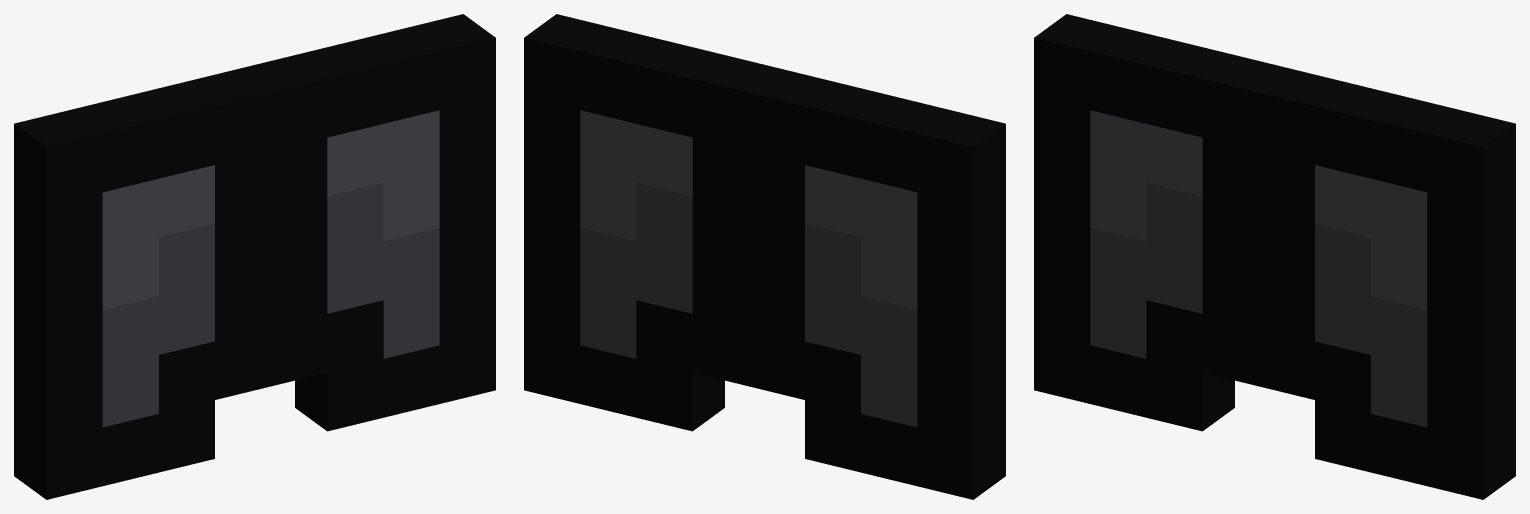
File: Military Gauntlets.glb
3 views of the same model, side by side, from view 1: azimuth 30°, elevation 25°; view 2: azimuth 150°, elevation 25°; view 3: azimuth 330°, elevation 25° (orthographic).
Parts seen in each view (by area): view 1: generated(Clone); view 2: generated(Clone); view 3: generated(Clone).
Boxes of the visible parts, <box> form: generated(Clone): <box>14,14,495,499</box>; generated(Clone): <box>524,14,1005,499</box>; generated(Clone): <box>1034,14,1515,499</box>.
Bounding box in the file's own units: 8 × 6 × 1.
Materials: 1 (1 with a texture image).
